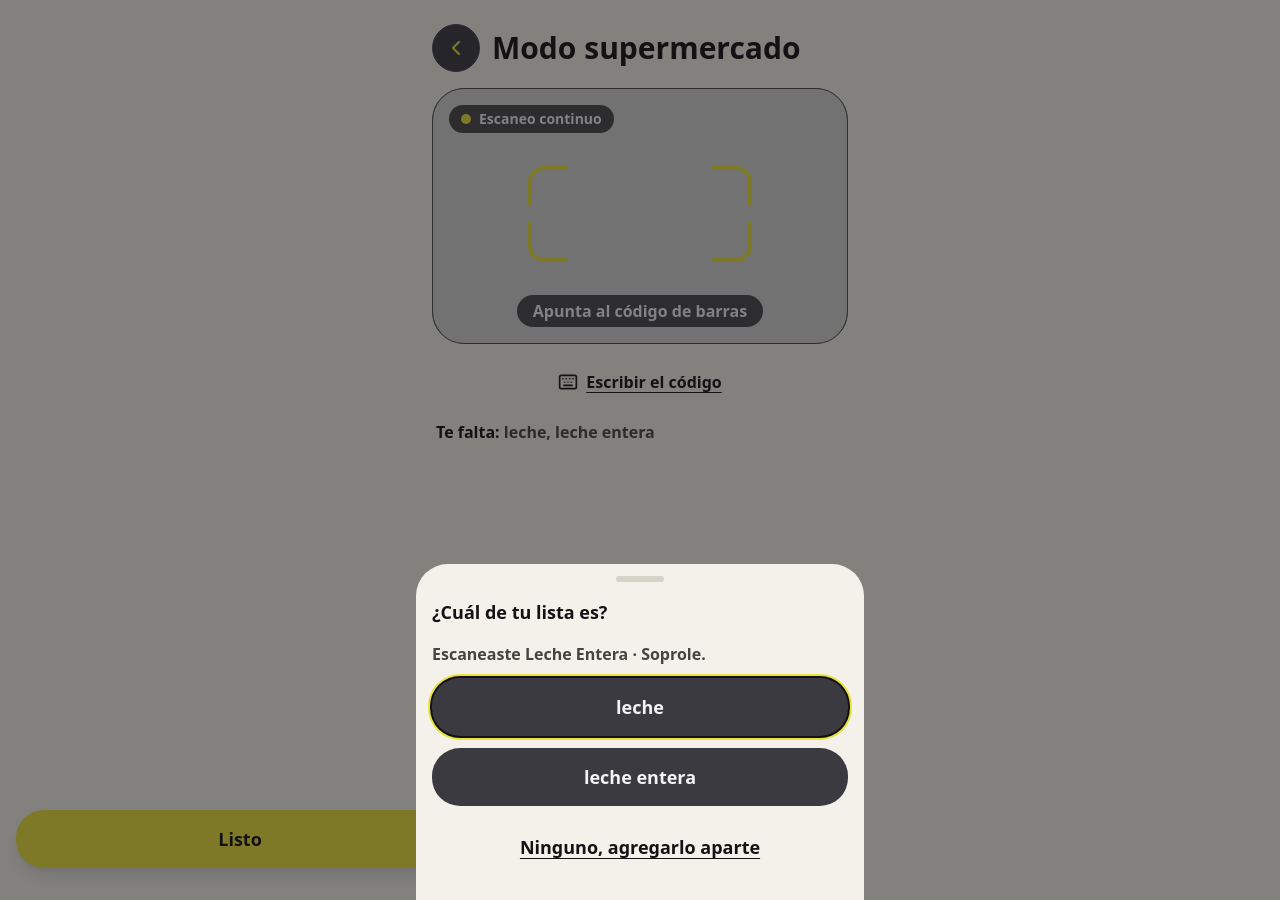
Test: SupermarketPage › asks which item when several fit, and adds it apart on "Ninguno"
Expected: the text "Te falta:" is shown, [436,421,504,443]
Click the button "leche entera" at (640, 777), box [432,748,848,806]
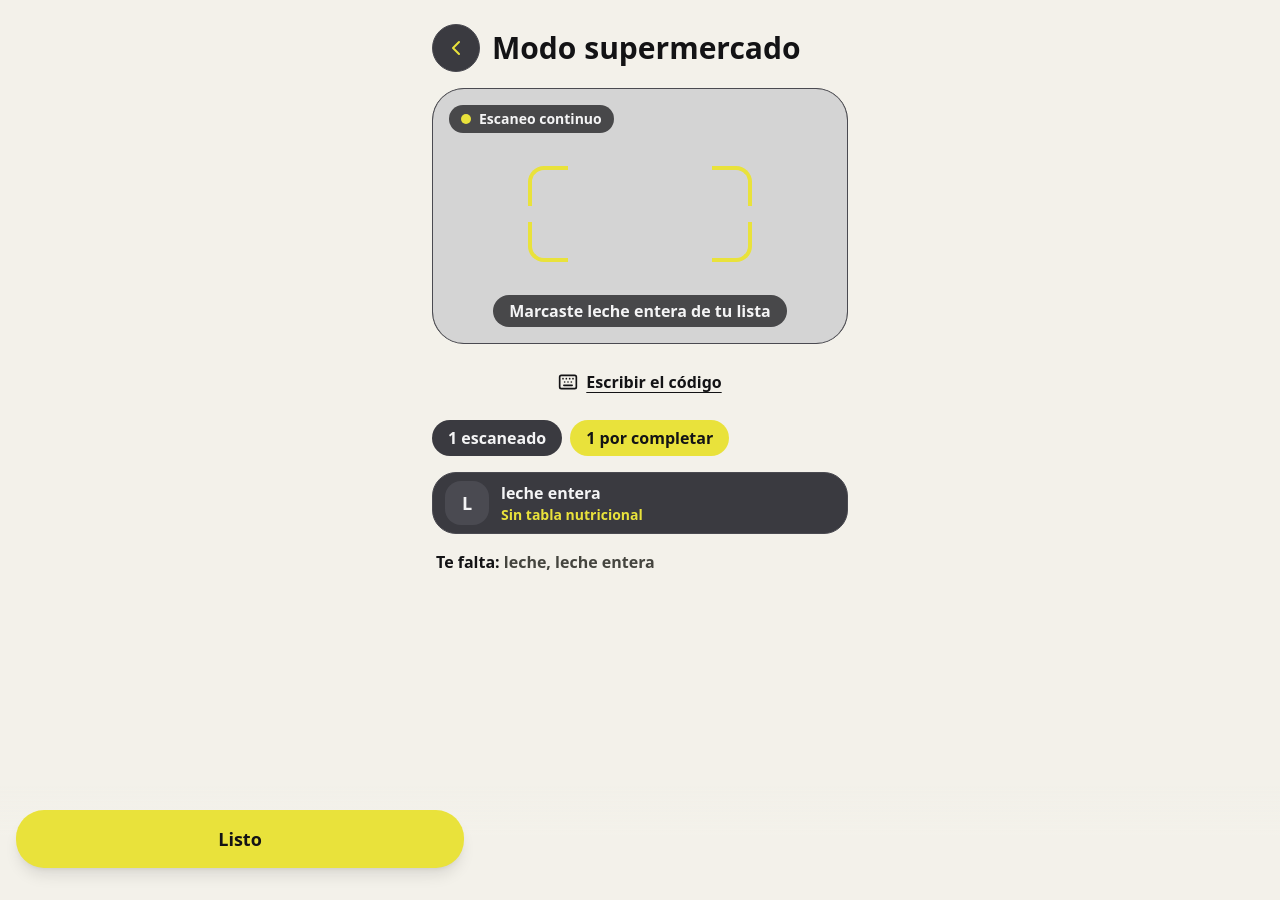
Expected: the text "Marcaste leche entera de tu lista" is shown, [493,295,787,327]
